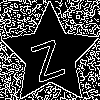Z: (25, 30, 67, 83)
